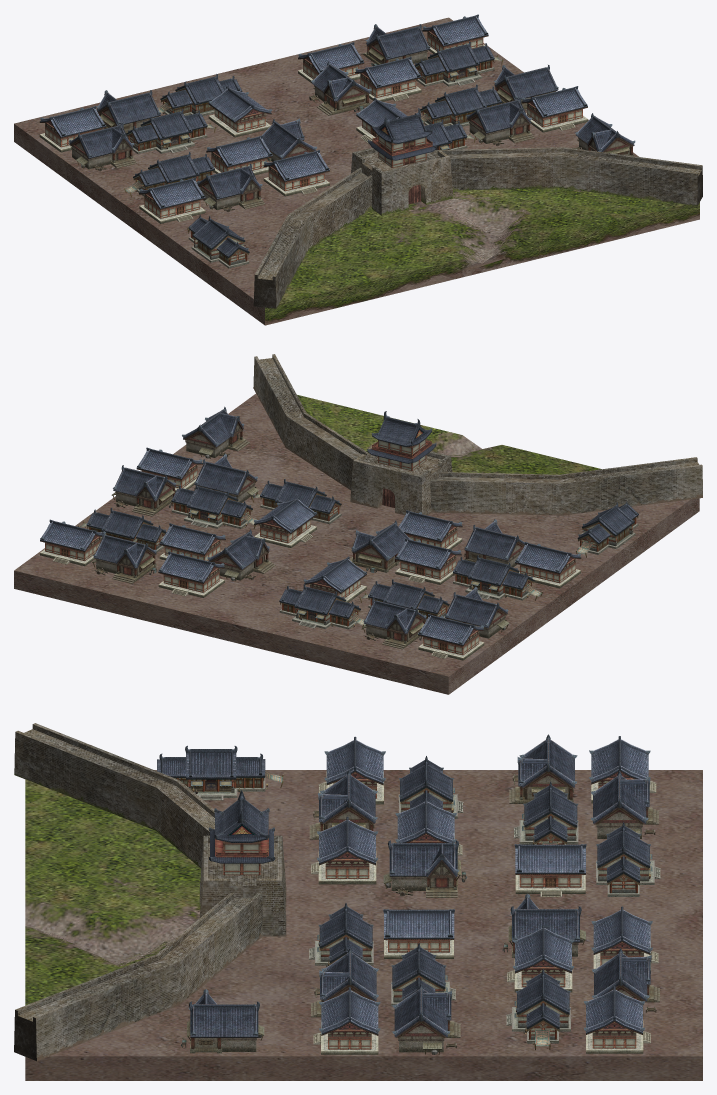
File: map014.FBX
The picture shows the model from 3 angles, top to bottom: view 1: azimuth 30°, elevation 25°; view 2: azimuth 150°, elevation 25°; view 3: azimuth 270°, elevation 25°; orthographic projection. The views are drawn at different scales.
Visible parts, largest first — view 1: map014, Box032, house124, house140, house136, house104; view 2: map014, Box032, house124, house140, house136, house104; view 3: map014, Box032, house124, house140, house136, house104.
Boxes of the visible parts, bbox=[...] form: map014: bbox=[14, 17, 699, 325]; Box032: bbox=[253, 147, 702, 308]; house124: bbox=[39, 14, 587, 223]; house140: bbox=[69, 24, 635, 212]; house136: bbox=[124, 41, 503, 268]; house104: bbox=[368, 108, 436, 167]; map014: bbox=[14, 393, 699, 694]; Box032: bbox=[253, 354, 702, 515]; house124: bbox=[40, 447, 581, 660]; house140: bbox=[92, 406, 527, 649]; house136: bbox=[78, 479, 638, 629]; house104: bbox=[367, 411, 436, 470]; map014: bbox=[25, 770, 702, 1080]; Box032: bbox=[14, 723, 286, 1061]; house124: bbox=[311, 736, 658, 1054]; house140: bbox=[181, 734, 659, 1054]; house136: bbox=[157, 745, 660, 1050]; house104: bbox=[209, 790, 274, 875].
Size of the model in its own units: 103 by 22.42 by 102.
